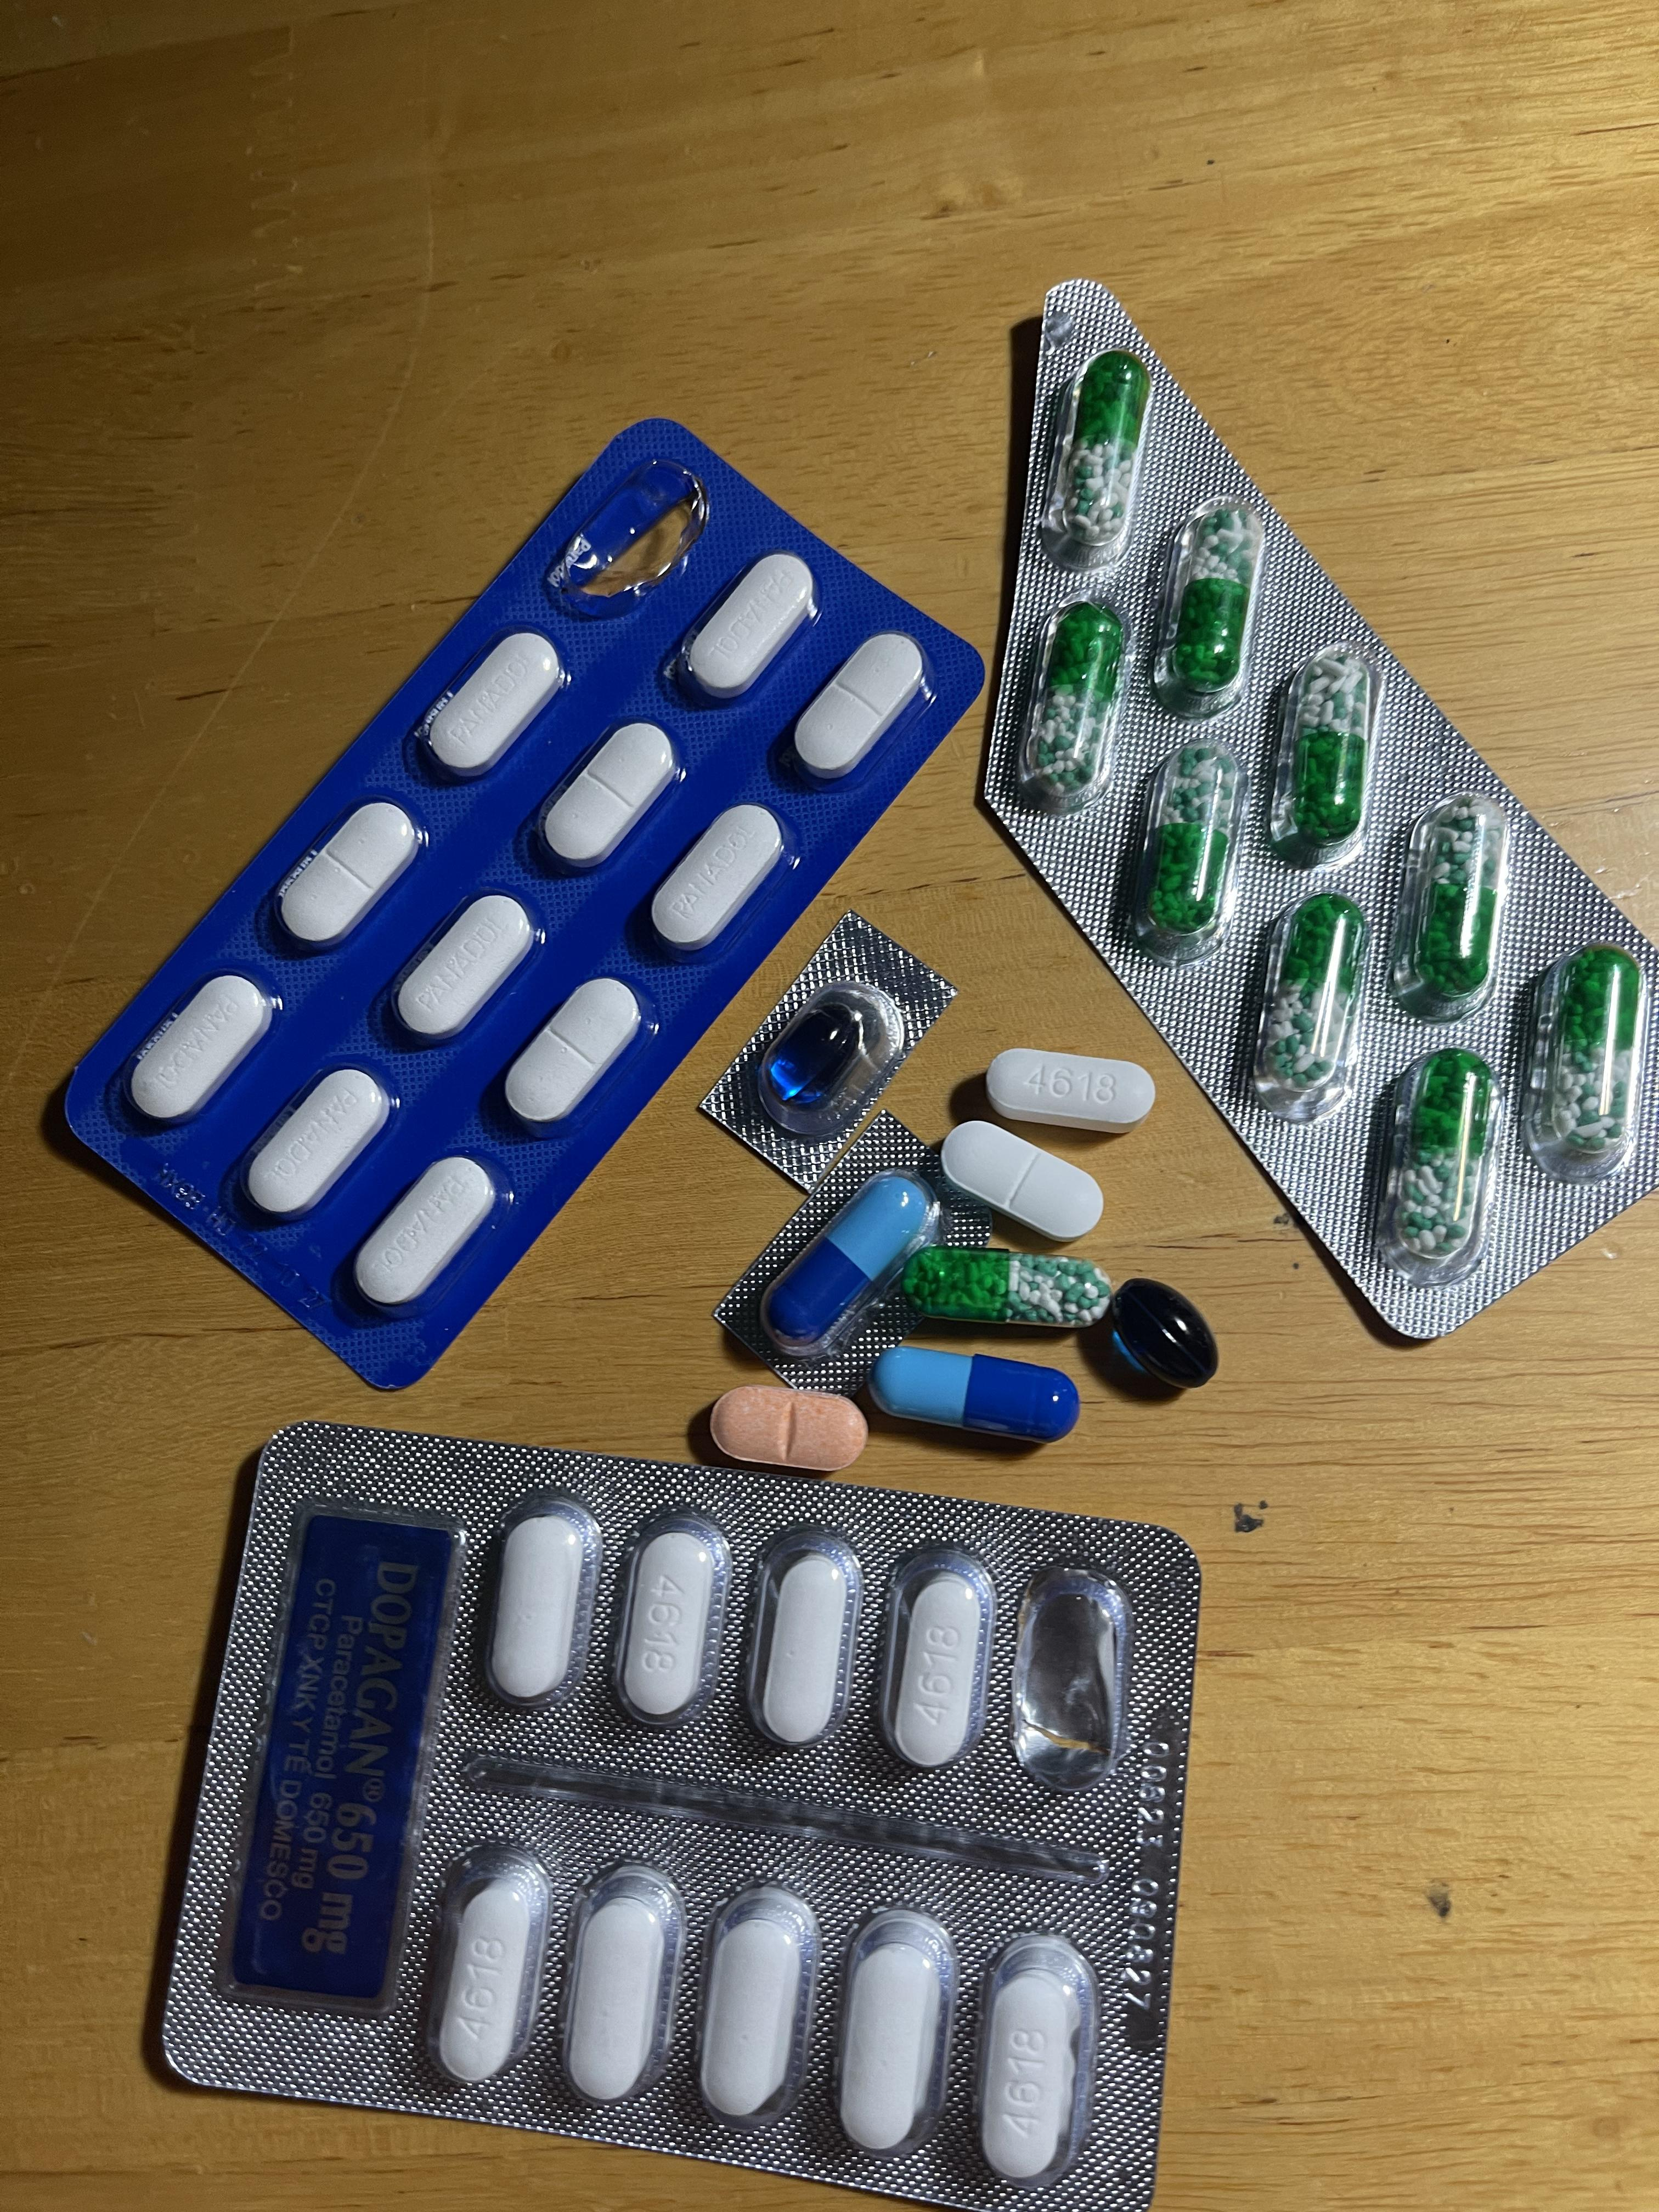Lincomyxin_500mg: (1108, 1277, 1218, 1388), (765, 1008, 866, 1106)
Loratadine_10mg: (709, 1385, 868, 1470)
Paracetamol_350mg: (240, 1066, 392, 1223), (416, 632, 566, 786), (350, 1155, 498, 1310), (788, 629, 927, 787), (650, 801, 793, 954), (131, 972, 274, 1125), (390, 892, 535, 1042), (678, 550, 816, 705), (540, 721, 681, 871), (505, 975, 645, 1127), (277, 801, 418, 949), (941, 1120, 1105, 1244)
Paracetamol_500mg: (697, 1886, 824, 2132), (833, 1904, 955, 2156), (559, 1865, 685, 2109), (436, 1879, 535, 2083), (979, 1975, 1079, 2179), (490, 1512, 586, 1702), (890, 1575, 983, 1766), (624, 1534, 718, 1721), (758, 1552, 849, 1743), (985, 1049, 1148, 1134)
Paracetamol_650mg: (1542, 953, 1642, 1158), (1265, 897, 1364, 1089), (1399, 1054, 1493, 1254), (1058, 355, 1147, 554), (1168, 509, 1256, 702), (1037, 604, 1126, 796), (901, 1247, 1110, 1327), (1412, 810, 1499, 996), (1150, 752, 1239, 925), (1293, 662, 1371, 845)
pill: (760, 1165, 941, 1357), (868, 1345, 1077, 1440)
